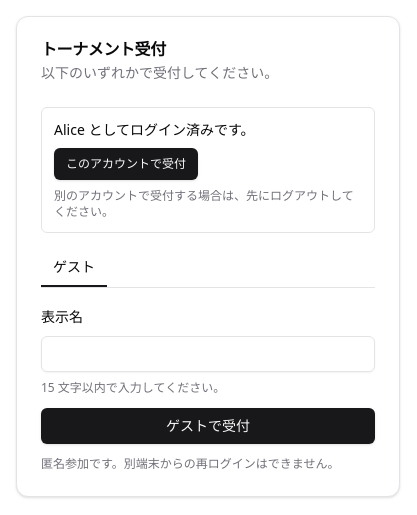
Test: JoinClient — 自動所属フィードバック（08 Phase 2） › group 名が解決できないときは汎用文言に fallback する
What coordinates should you click on to do the following:
click the button "このアカウントで受付"
I would click on:
 (126, 164)
Its box is [54,148,198,180].
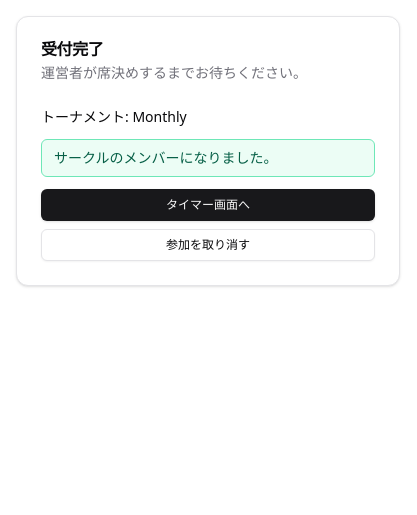
Expected: the text "受付完了" is shown, [41,38,103,60]
Expected: the text "サークルのメンバーになりました。" is shown, [41,139,375,177]
